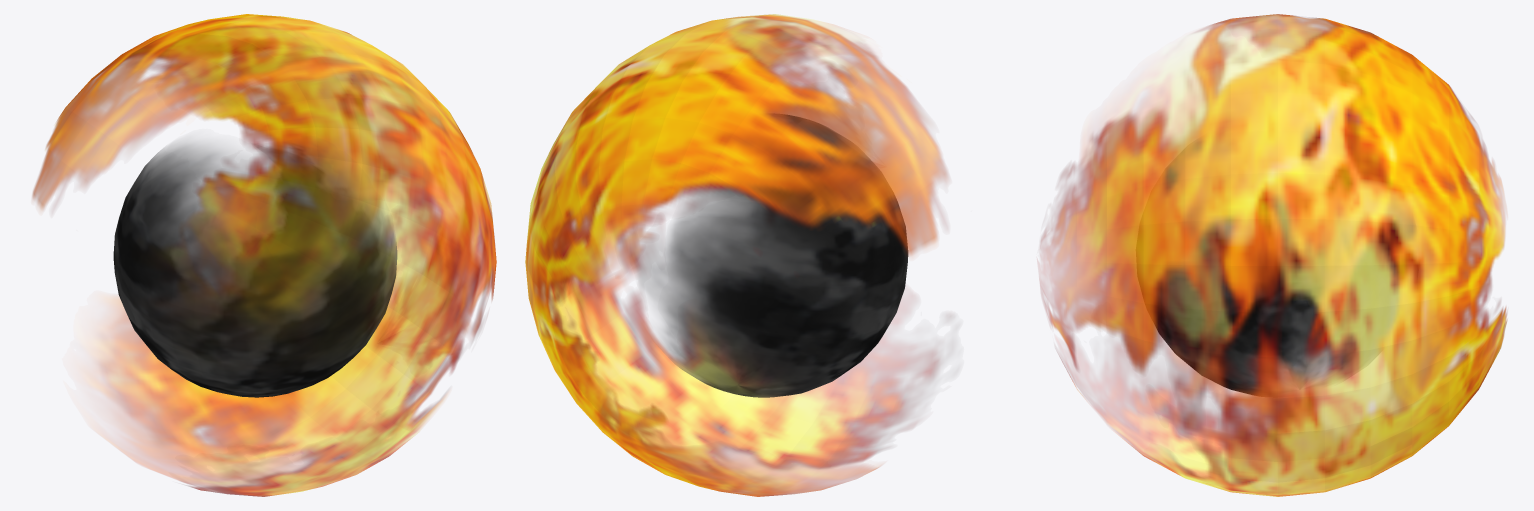
Rendered from sphere_explosion3.glb.
3 views of the same model, side by side, from view 1: azimuth 30°, elevation 25°; view 2: azimuth 150°, elevation 25°; view 3: azimuth 270°, elevation 25° (orthographic).
Visible parts, largest first — view 1: Sphere; view 2: Sphere; view 3: Sphere.
Part boxes in pixels (<box>): Sphere: <box>32,14,496,496</box>; Sphere: <box>525,14,947,496</box>; Sphere: <box>1040,14,1507,496</box>.
Size of the model in its own units: 1.29 by 1.29 by 1.29.
Materials: 1 (1 with a texture image).
